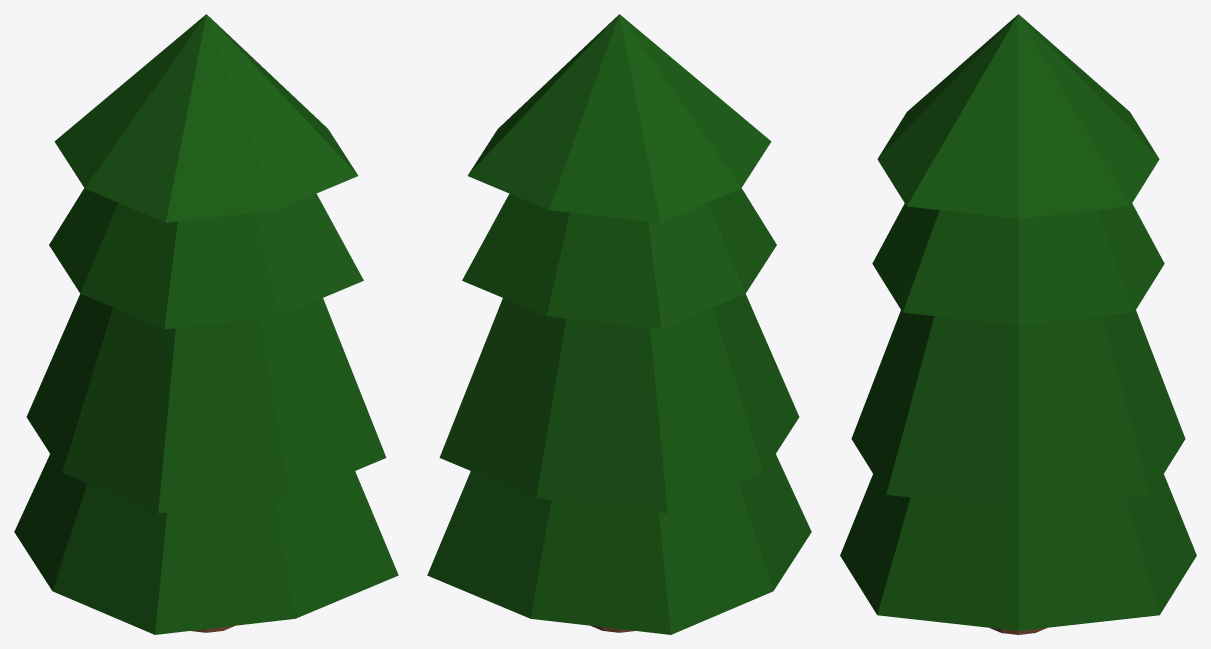
Rendered from Tree_22_autumn_vc.fbx.
3 renders of one model, left to right at view 1: azimuth 30°, elevation 25°; view 2: azimuth 150°, elevation 25°; view 3: azimuth 270°, elevation 25°, orthographic.
Visible parts, largest first — view 1: Tree_22_autumn_vc; view 2: Tree_22_autumn_vc; view 3: Tree_22_autumn_vc.
Boxes of the visible parts, left/top/right/bottom form: Tree_22_autumn_vc: left=14, top=14, right=398, bottom=634; Tree_22_autumn_vc: left=427, top=14, right=811, bottom=634; Tree_22_autumn_vc: left=840, top=14, right=1196, bottom=634.
Size of the model in its own units: 2.15 by 4.04 by 2.15.
